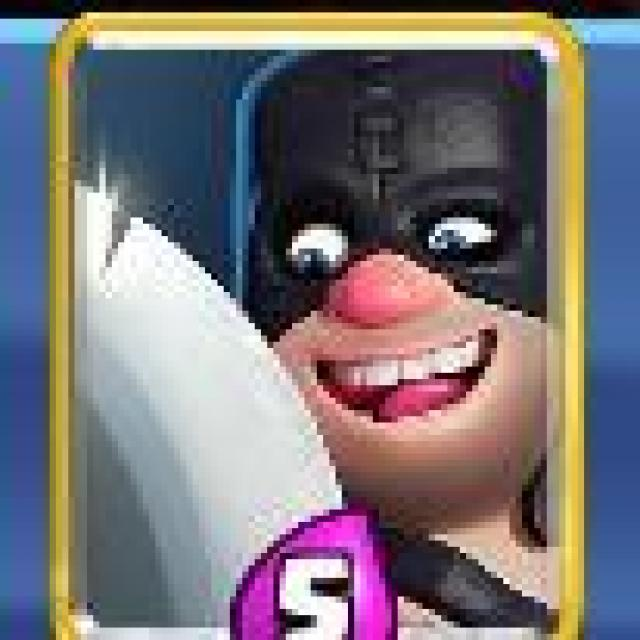Executioner: (51, 12, 577, 637)
